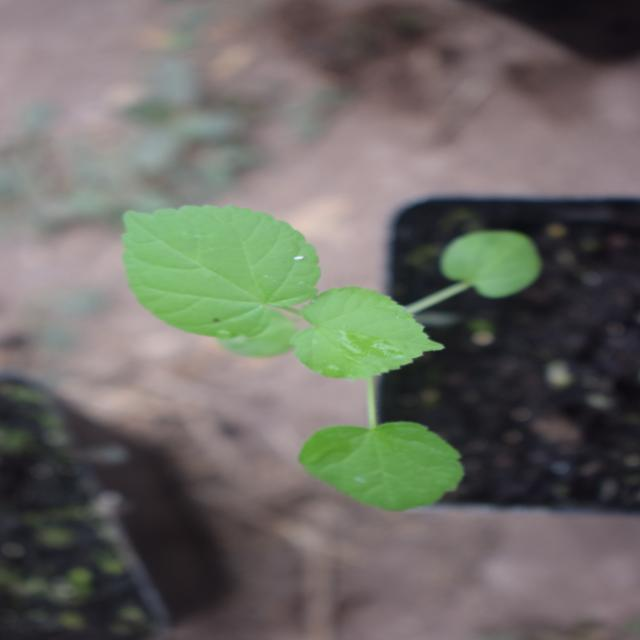abutilon theophrasti: (130, 120, 440, 555)
